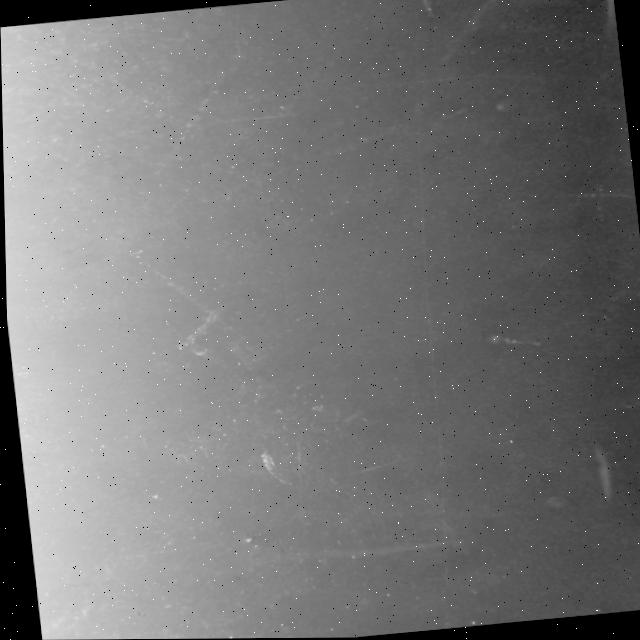beta: (141, 3, 283, 167), (10, 22, 157, 119), (143, 255, 232, 336), (354, 64, 545, 100), (429, 0, 514, 68), (280, 536, 459, 568), (319, 130, 396, 158), (556, 185, 635, 211), (90, 544, 194, 562), (475, 331, 547, 353), (349, 453, 405, 476), (35, 611, 65, 640), (1, 78, 29, 98), (410, 0, 435, 15)
